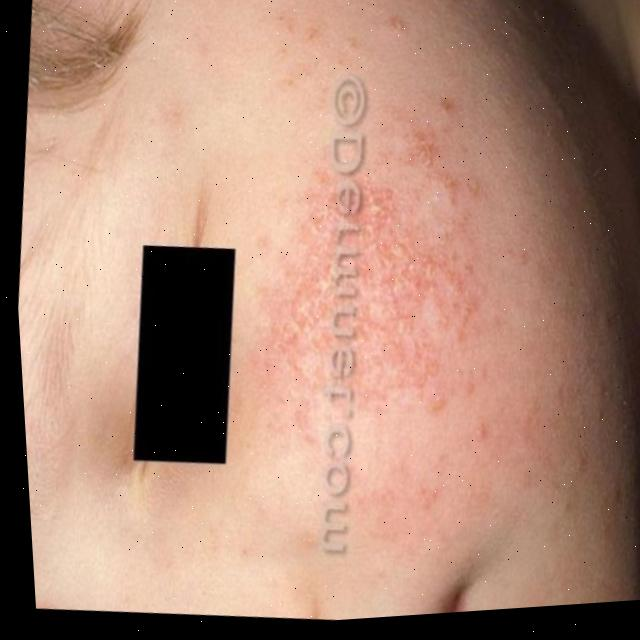Eczema: (270, 126, 497, 461)
